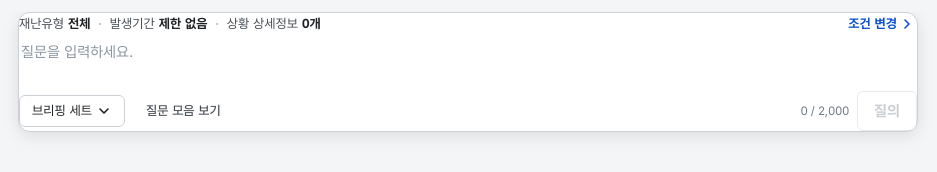
it: 질의 줄(개발서버 QueryBox) › 보내면 답을 기다리지 않고 칸을 바로 비운다
Type "우리 지역 위험지역은?" into the text box labelled "질문".
click(468, 63); type("우리 지역 위험지역은?")  # box [19,35,917,91]
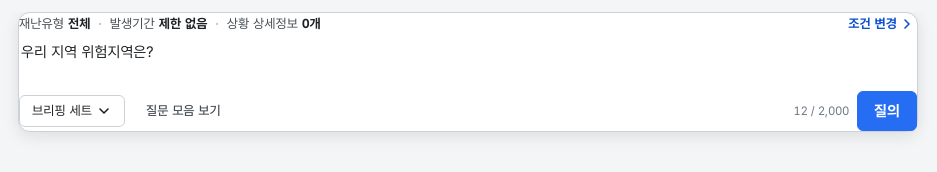
Click the button "질의".
click(887, 111)  # box [857,91,917,131]
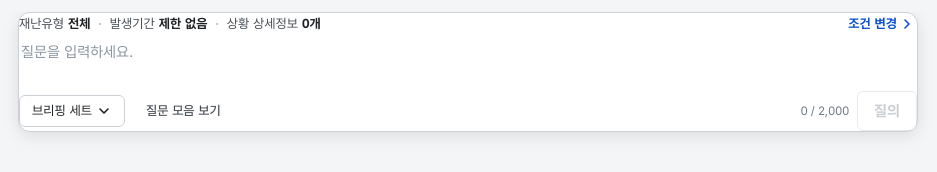
Expected: the text box labelled "질문" is empty, [19,35,917,91]
